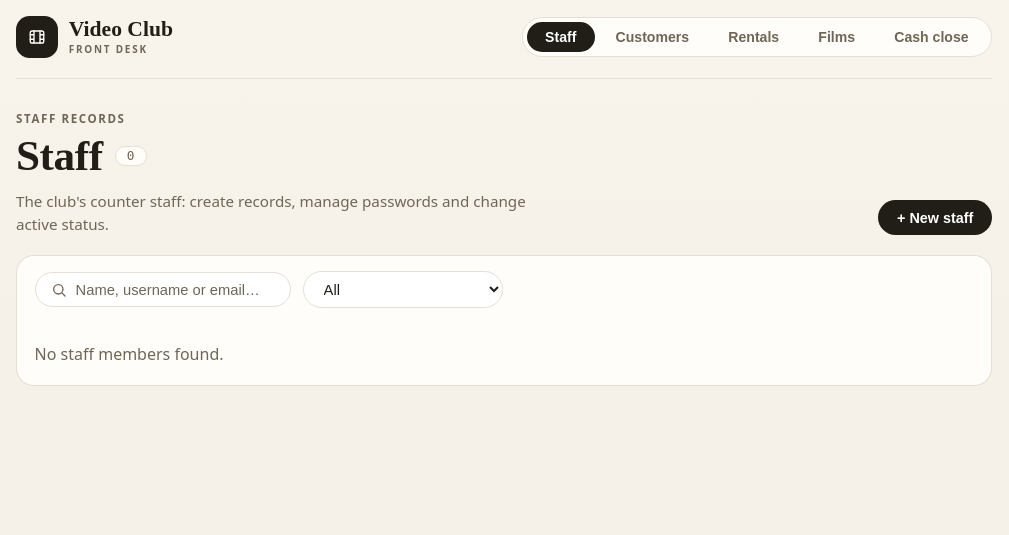
Cash close view › shows the empty state for a period without rentals
Click the tab "Cash close". click: click(931, 37)
box: x1=876 y1=22 x2=987 y2=52
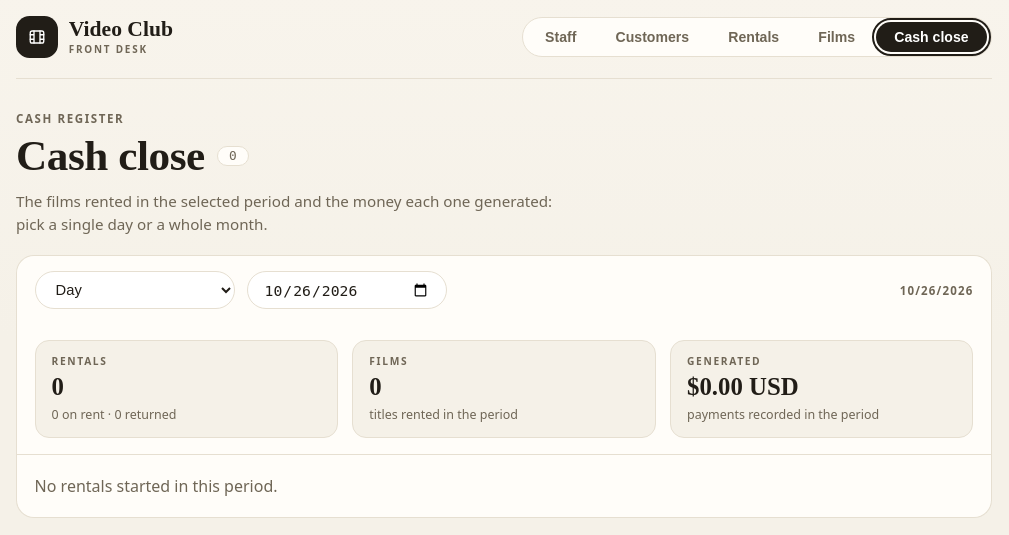
Expected: the text "No rentals started in this period." is shown, x1=35 y1=474 x2=278 y2=496
